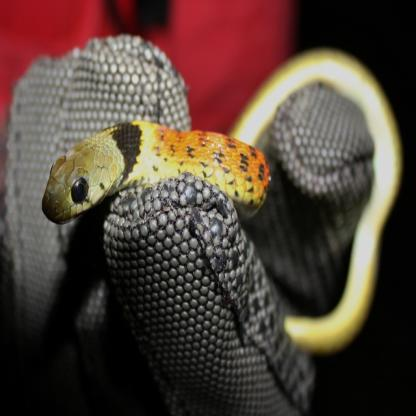Snake: (30, 116, 274, 227)
